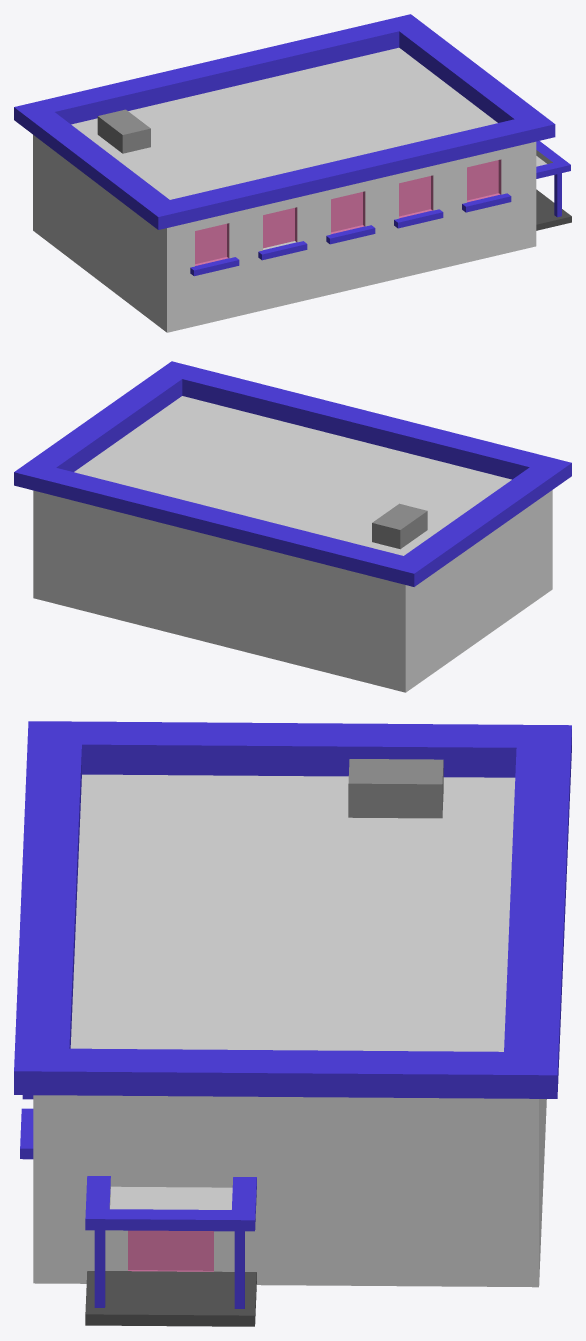
Rendered from Centro de Capacitacao.fbx.
3 views of the same model, one above another, from view 1: azimuth 30°, elevation 25°; view 2: azimuth 150°, elevation 25°; view 3: azimuth 270°, elevation 25° (orthographic). The views are drawn at different scales.
Visible parts, largest first — view 1: Centro de Capacitacao; view 2: Centro de Capacitacao; view 3: Centro de Capacitacao.
Boxes of the visible parts, x1,y1,x2,y2 form: Centro de Capacitacao: (14,14,571,332); Centro de Capacitacao: (14,361,571,692); Centro de Capacitacao: (14,721,571,1326).
Size of the model in its own units: 89.8 by 25.45 by 55.18.
